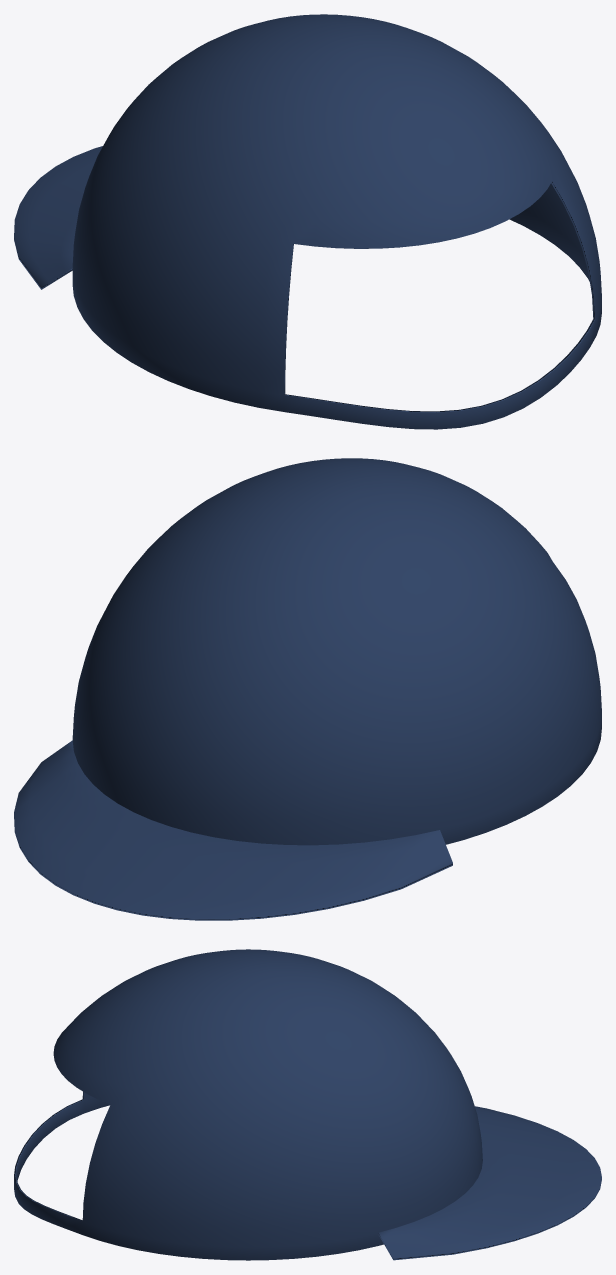
File: baseball-cap.glb
The picture shows the model from 3 angles, top to bottom: view 1: azimuth 30°, elevation 25°; view 2: azimuth 150°, elevation 25°; view 3: azimuth 270°, elevation 25°; orthographic projection. The views are drawn at different scales.
Parts seen in each view (by area): view 1: CapShellRearOpeningBand, CurvedFrontBrim; view 2: CapShellRearOpeningBand, CurvedFrontBrim; view 3: CapShellRearOpeningBand, CurvedFrontBrim.
Boxes of the visible parts, left/top/right/bottom form: CapShellRearOpeningBand: left=72, top=14, right=601, bottom=429; CurvedFrontBrim: left=14, top=146, right=102, bottom=289; CapShellRearOpeningBand: left=72, top=458, right=601, bottom=845; CurvedFrontBrim: left=14, top=740, right=452, bottom=920; CapShellRearOpeningBand: left=14, top=949, right=482, bottom=1260; CurvedFrontBrim: left=378, top=1106, right=601, bottom=1260.
Bounding box in the file's own units: 0.224 × 0.133 × 0.321.
